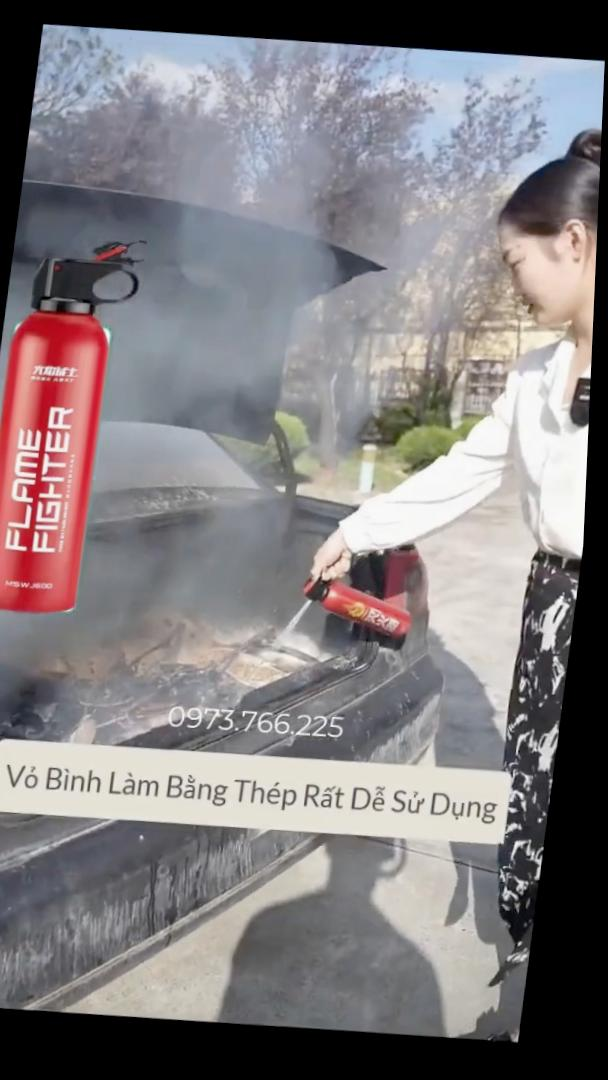FireExtinguisher: (0, 222, 160, 640), (300, 563, 431, 663)
